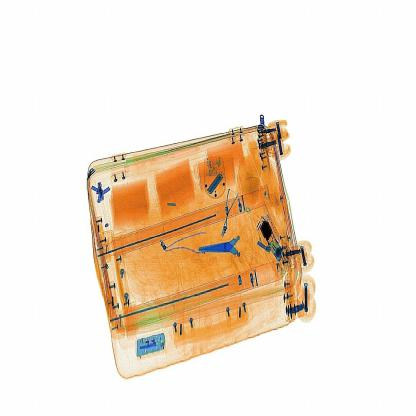gun: (196, 218, 258, 273)
